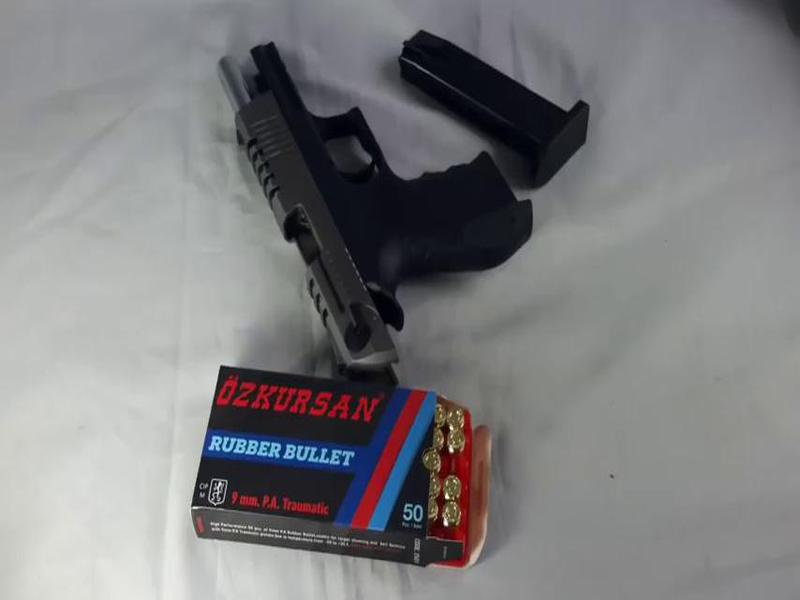Pistola: (193, 18, 545, 386)
